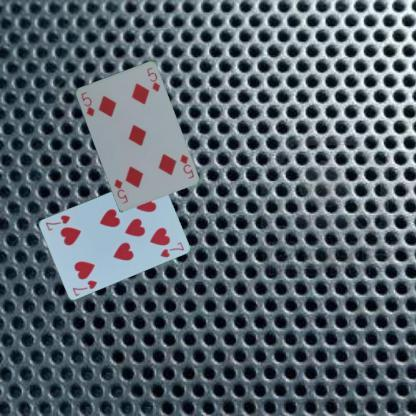5d: (78, 89, 96, 118), (177, 152, 195, 180)
7h: (70, 277, 98, 297)
